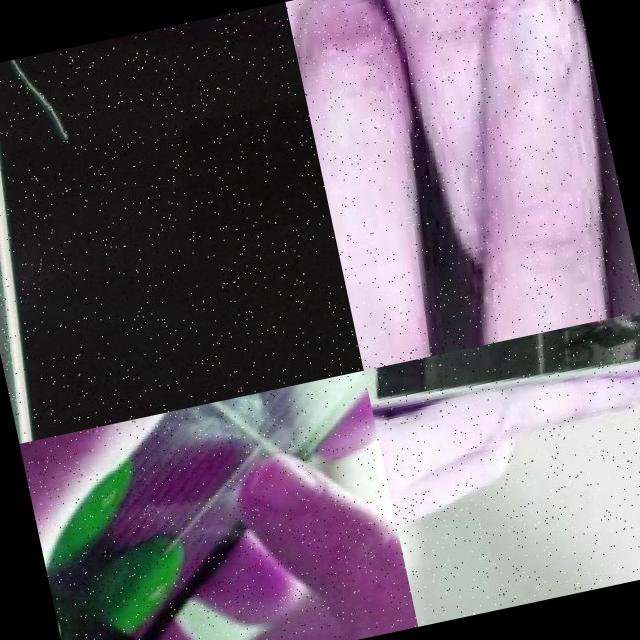scratch: (0, 48, 79, 155)
